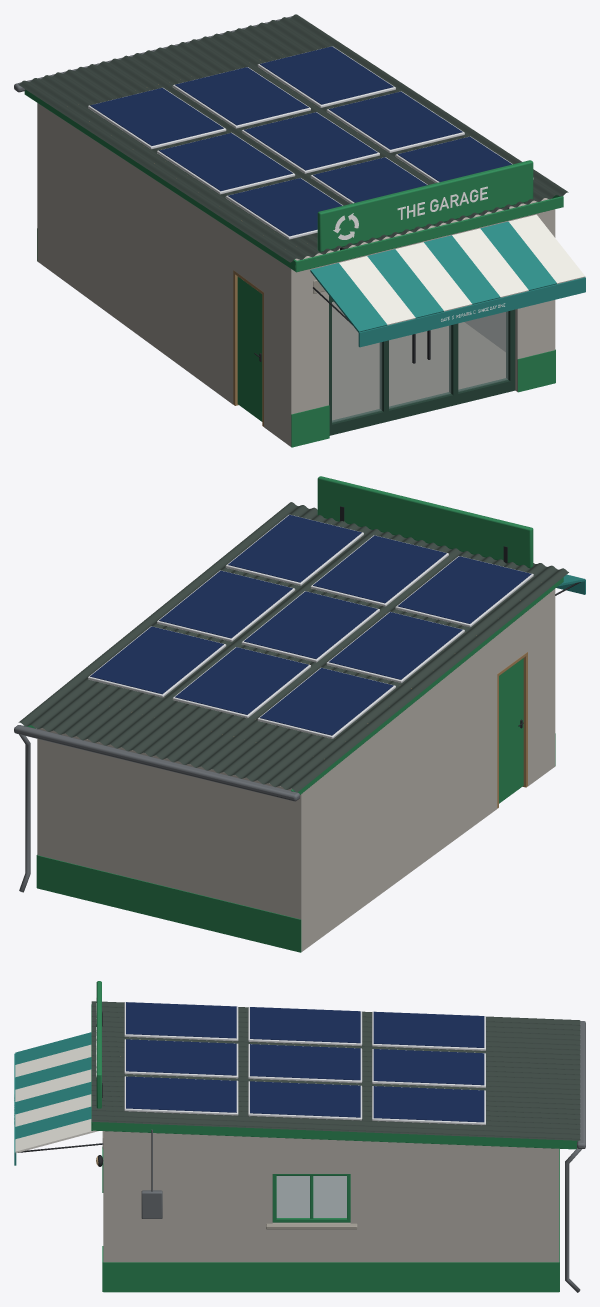
The model's file is garage_cafe.fbx.
3 renders of one model, top to bottom at view 1: azimuth 30°, elevation 25°; view 2: azimuth 150°, elevation 25°; view 3: azimuth 270°, elevation 25°, orthographic. The views are drawn at different scales.
Parts seen in each view (by area): view 1: garage_cafe; view 2: garage_cafe; view 3: garage_cafe.
Boxes of the visible parts, box(x1,y1,x2,y2) form: garage_cafe: box(14, 14, 585, 447); garage_cafe: box(14, 476, 585, 952); garage_cafe: box(14, 981, 585, 1292).
Bounding box in the file's own units: 4.5 × 3.5 × 8.78.
